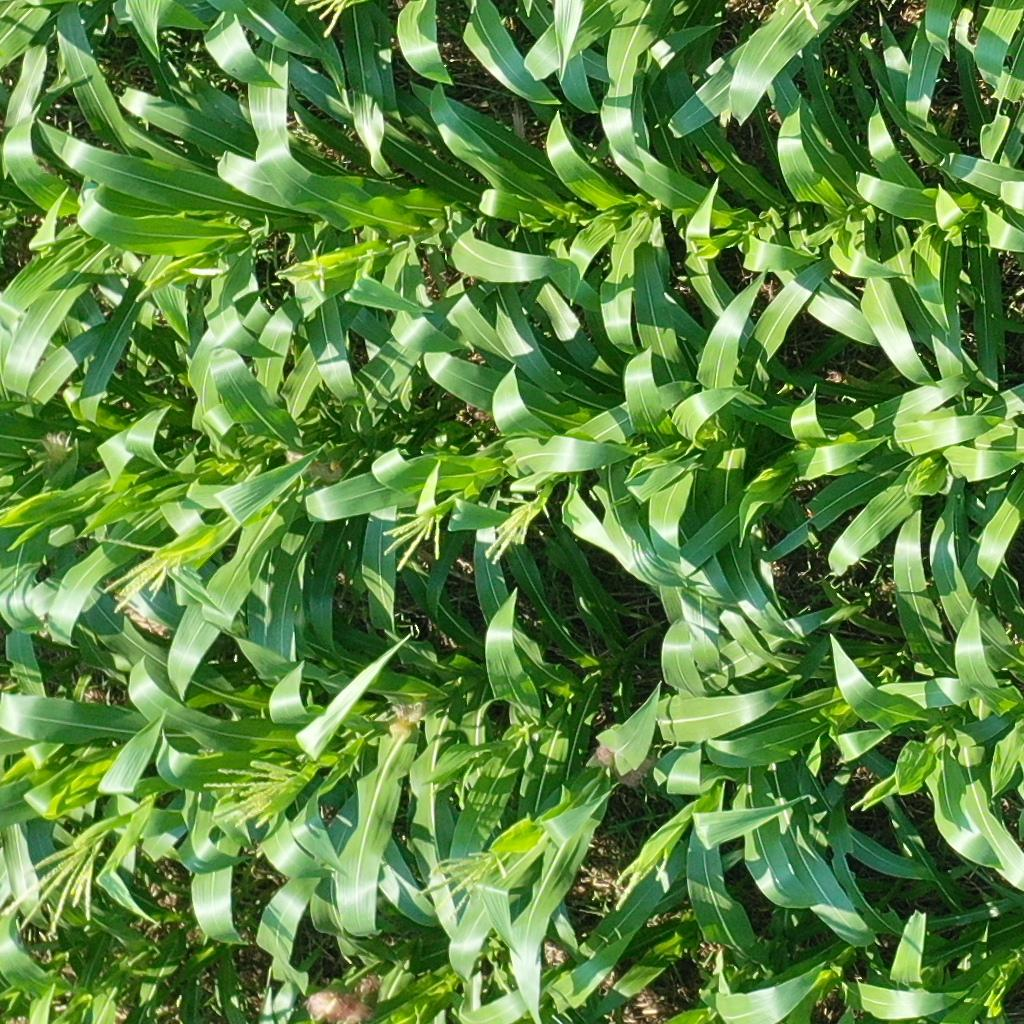Tassel: (1, 828, 111, 937), (85, 532, 202, 614), (200, 753, 306, 832), (415, 847, 507, 918), (483, 494, 543, 570), (378, 510, 446, 575), (611, 844, 669, 916), (272, 247, 330, 296), (291, 1, 359, 40), (772, 1, 822, 30)
